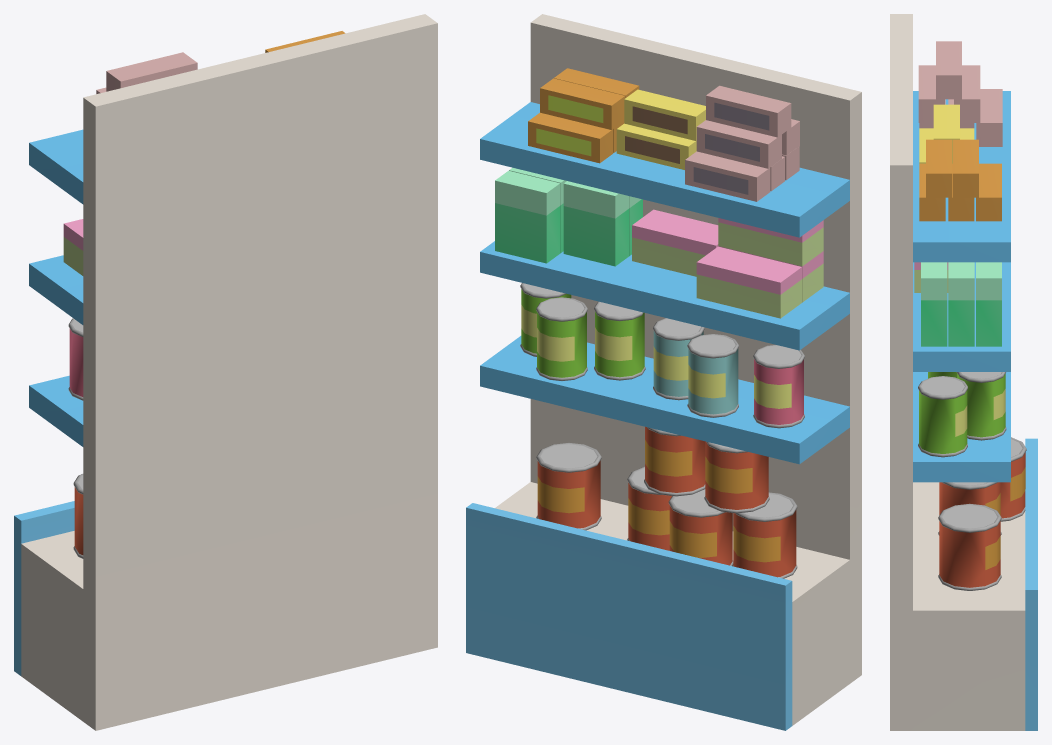
Rendered from ShelvesCan.fbx.
3 renders of one model, left to right at view 1: azimuth 30°, elevation 25°; view 2: azimuth 150°, elevation 25°; view 3: azimuth 270°, elevation 25°, orthographic. The views are drawn at different scales.
Visible parts, largest first — view 1: ShelvesCan; view 2: ShelvesCan; view 3: ShelvesCan.
Boxes of the visible parts, x1,y1,x2,y2 form: ShelvesCan: [14, 14, 437, 730]; ShelvesCan: [466, 14, 861, 730]; ShelvesCan: [890, 14, 1037, 730].
Size of the model in its own units: 265 by 462 by 110.
